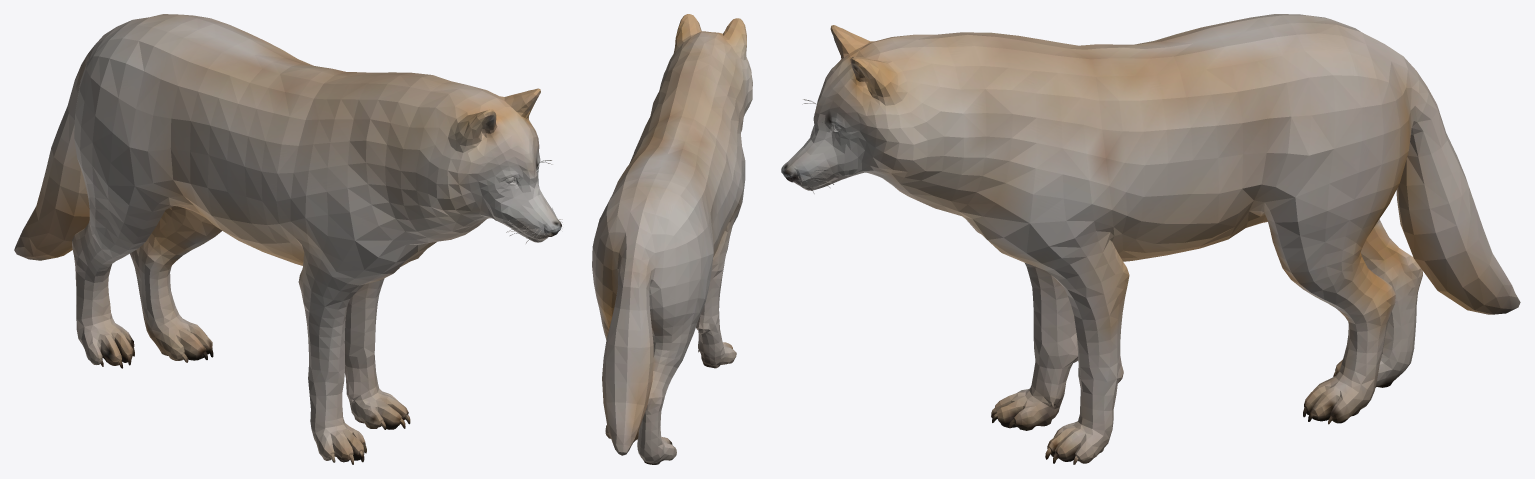
The model's file is arcticwolf.mesh.glb.
The picture shows the model from 3 angles, left to right: view 1: azimuth 30°, elevation 25°; view 2: azimuth 150°, elevation 25°; view 3: azimuth 270°, elevation 25°; orthographic projection. The views are drawn at different scales.
Visible parts, largest first — view 1: root; view 2: root; view 3: root.
Part boxes in pixels (<box>): root: <box>14,14,562,464</box>; root: <box>592,14,752,464</box>; root: <box>781,14,1520,464</box>.
Size of the model in its own units: 0.3017 by 0.4743 by 0.7375.
1 material, 1 textured.
